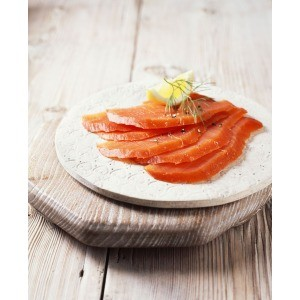salmon_brain food: (80, 85, 253, 177)
